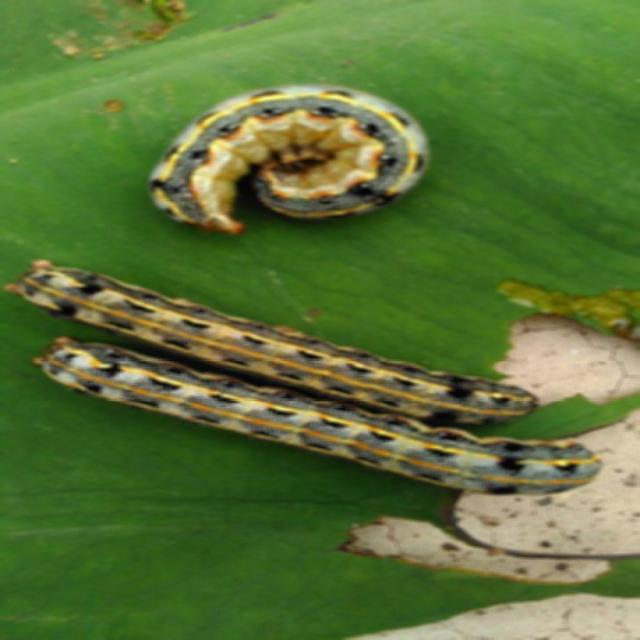army worm: (30, 332, 613, 506), (15, 257, 573, 425), (141, 80, 433, 236)
